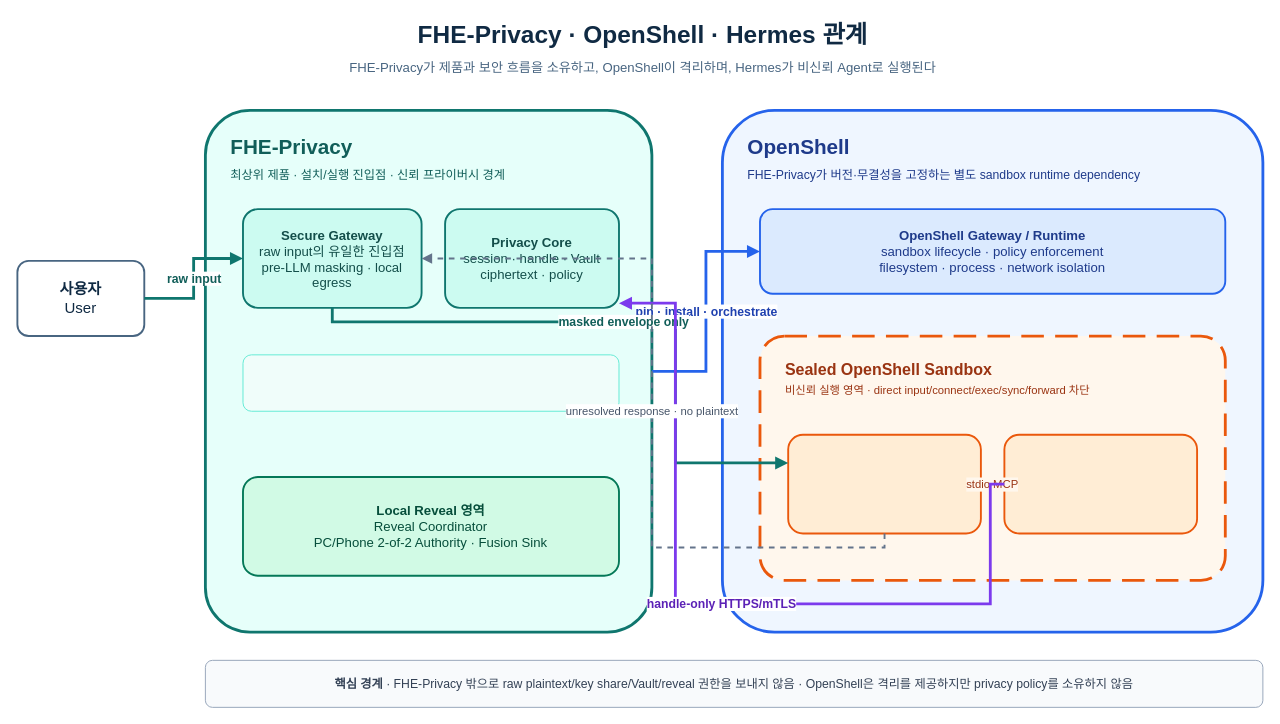
The diagram is 1280 pixels wide and 724 high, and some of its shapes have lost their labels. The shapes that lost their labels are listed below. From the top down, each one's centre as x and y in pixels, then its label:
At (x=430, y=382): "소유: 개인정보 정책 · 암호 상태 · key share 경계 · reveal 승인".
At (x=884, y=483): "Hermes Agent 비신뢰 Agent 구현체 masked prompt와 opaque handle만 사용".
At (x=1100, y=483): "Stateless MCP Bridge handle-only tool 중계 Hermes와 동일한 비신뢰 principal".
